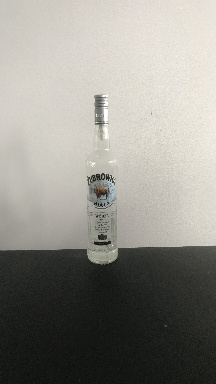butelka: (85, 90, 118, 267)
